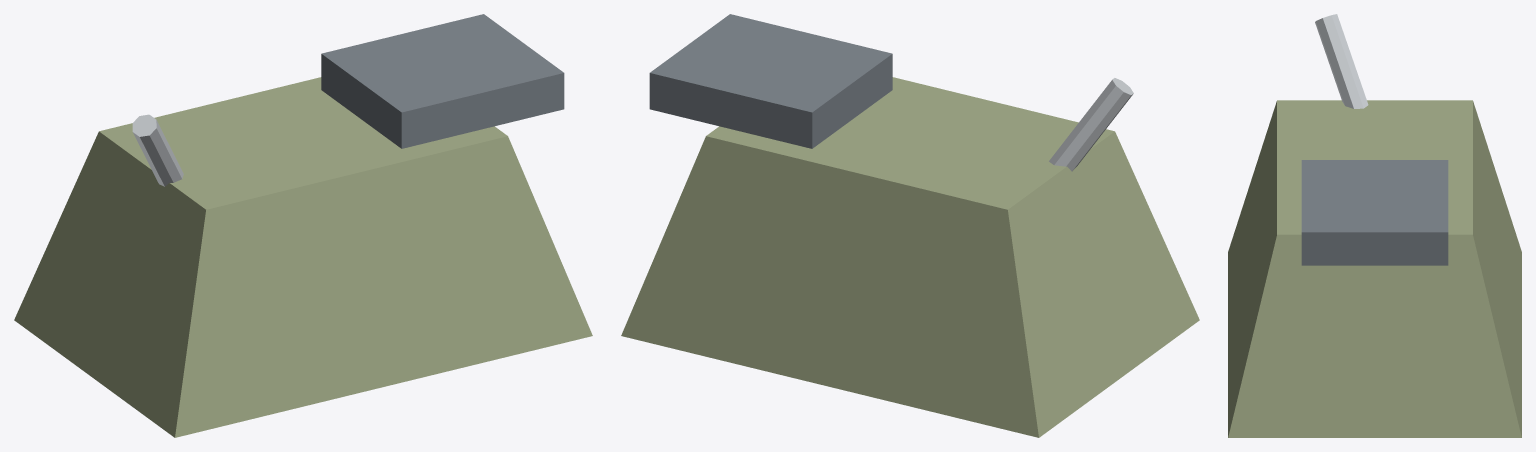
Rendered from mech-hangar-and-battle-frames-wreck-torso-edd63385__26982.glb.
3 views of the same model, side by side, from view 1: azimuth 30°, elevation 25°; view 2: azimuth 150°, elevation 25°; view 3: azimuth 270°, elevation 25° (orthographic). The views are drawn at different scales.
Parts seen in each view (by area): view 1: wreck-torso; view 2: wreck-torso; view 3: wreck-torso.
Boxes of the visible parts, box(x1,y1,x2,y2) form: wreck-torso: box(14, 14, 592, 437); wreck-torso: box(621, 14, 1199, 437); wreck-torso: box(1228, 14, 1521, 437).
Bounding box in the file's own units: 1.85 × 1.13 × 1.2.
